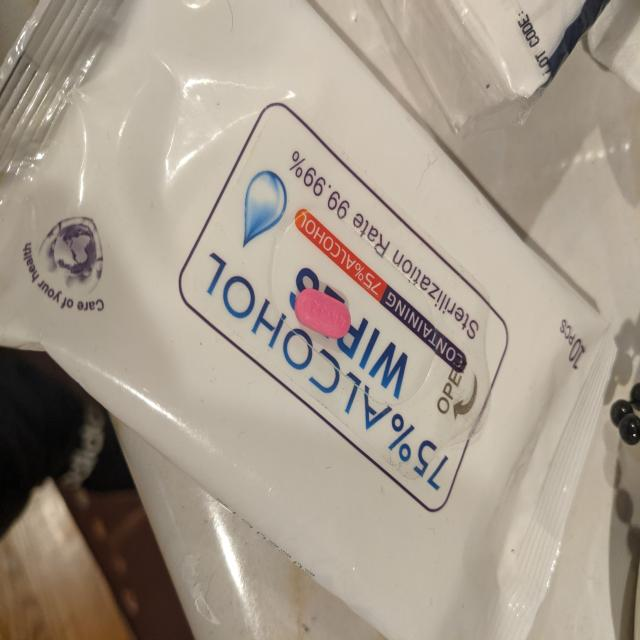non-organic waste: (294, 287, 351, 340)
